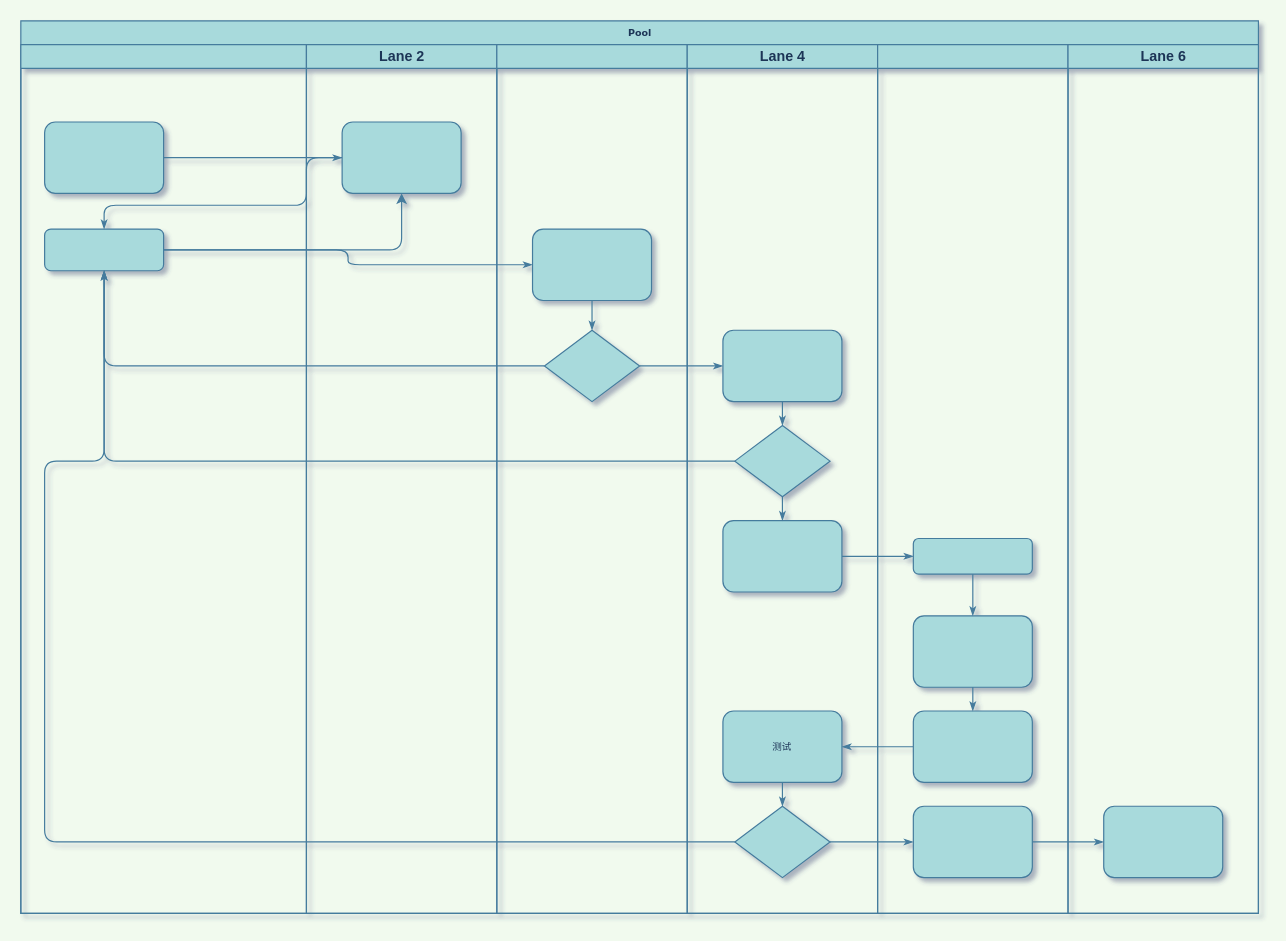
The diagram is 1286 pixels wide and 941 high, and some of its shapes have lost their labels. The shapes that lost their labels are listed below. From the top down, each one's box as (x1, y1, x2, y2) in pixels, then its label:
(20, 43, 306, 913): 调研
(496, 43, 687, 913): Lane 3
(876, 43, 1068, 913): Lane 5
